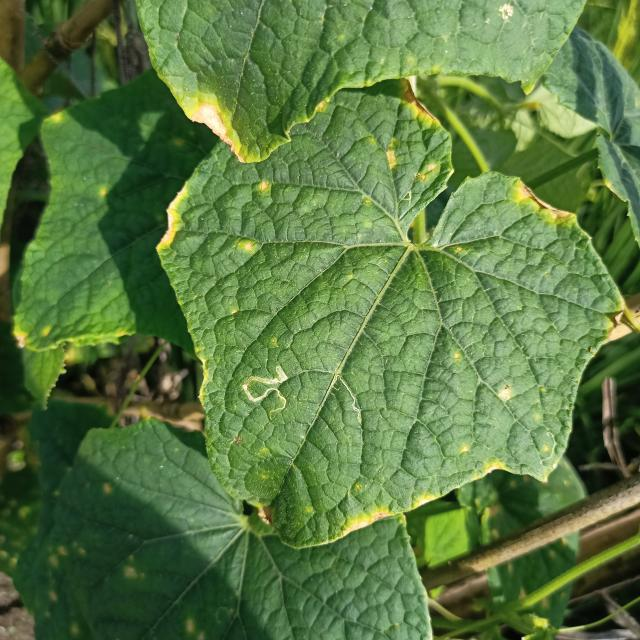disease_cucumber: (382, 101, 444, 184), (458, 441, 504, 477), (235, 236, 256, 255), (497, 382, 512, 402), (257, 178, 271, 198)
